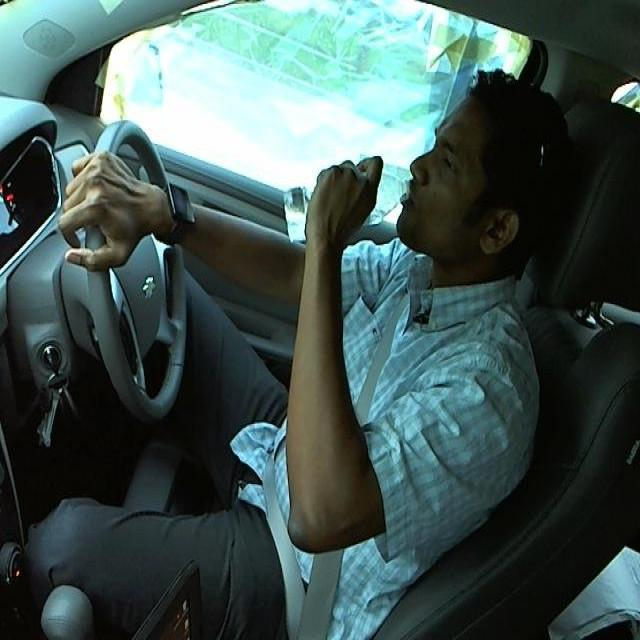drinking: (280, 148, 414, 248)
